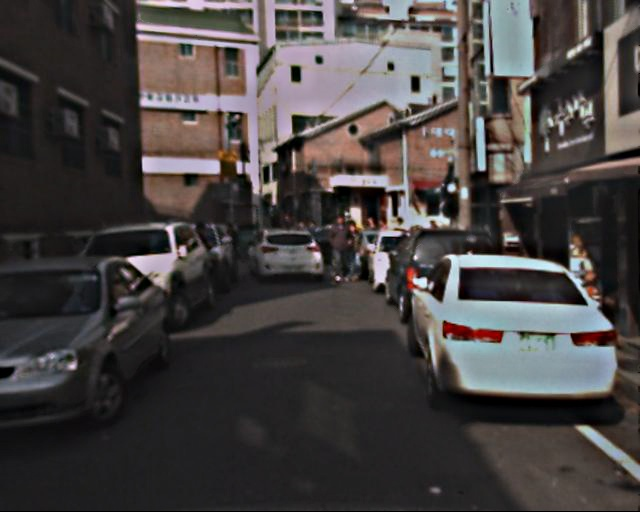person: (326, 214, 355, 284), (343, 220, 368, 280)
